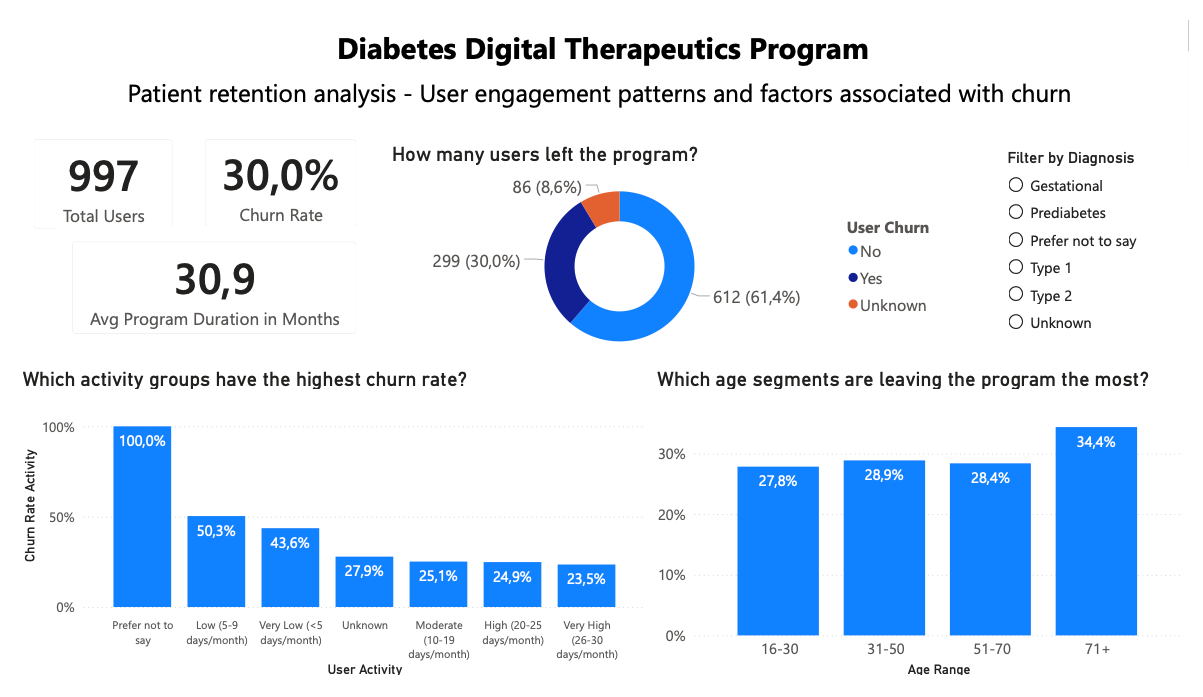

This screenshot's page, from the dashboard's own definition file:
{"tool":"powerbi","page":{"name":"Retention Overview","canvas":[1280,720],"ordinal":0},"visuals":[{"type":"cardVisual","fields":{"Data":["users.Total Users"]},"box":[0,113.2,186.8,132.1],"z":0},{"type":"cardVisual","fields":{"Data":["users.Churn Rate"]},"box":[186.8,113.2,200,130.2],"z":1000},{"type":"cardVisual","fields":{"Data":["users.Avg Program Duration"]},"box":[41.5,224.5,345.3,135.8],"z":2000},{"type":"donutChart","title":"How many users left the program?","fields":{"Category":["users.clean_user_churn"],"Y":["CountNonNull(users.user_id)"]},"box":[403.8,134,617,245.3],"z":3000},{"type":"clusteredColumnChart","title":"Which activity groups have the highest churn rate?","fields":{"Category":["users.clean_user_activity"],"Y":["users.Churn Rate Activity"]},"box":[0,379.2,692.5,341.5],"z":4000},{"type":"clusteredColumnChart","title":"Which age segments are leaving the program the most?","fields":{"Category":["customers.age_range"],"Y":["customers.Churn Rate Age"]},"box":[694.3,379.2,584.9,341.5],"z":5000},{"type":"textbox","box":[115.1,54.7,1049.1,52.8],"z":6000},{"type":"listSlicer","fields":{"Values":["users.clean_diagnosis"]},"box":[1077.4,139.6,171.7,209.4],"z":7000},{"type":"textbox","box":[330.2,1.9,618.9,52.8],"z":8000}]}

Visuals, with their boxes in screenshot pixels (x1, y1, x2, y2), scaled from the page's 1280x720 canvas onto the 1203x697 screenshot:
cardVisual - users.Total Users: (0, 110, 176, 237)
cardVisual - users.Churn Rate: (176, 110, 364, 236)
cardVisual - users.Avg Program Duration: (39, 217, 364, 349)
"How many users left the program?" donutChart: (380, 130, 959, 367)
"Which activity groups have the highest churn rate?" clusteredColumnChart: (0, 367, 651, 696)
"Which age segments are leaving the program the most?" clusteredColumnChart: (653, 367, 1202, 696)
textbox: (108, 53, 1094, 104)
listSlicer - users.clean_diagnosis: (1013, 135, 1174, 338)
textbox: (310, 2, 892, 53)
